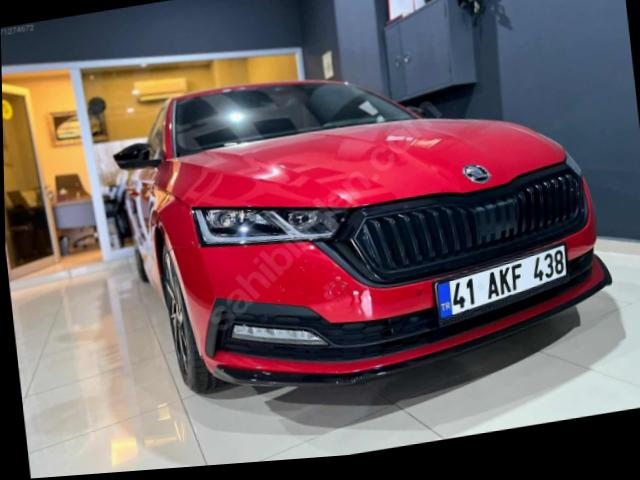plaka: (435, 245, 567, 319)
